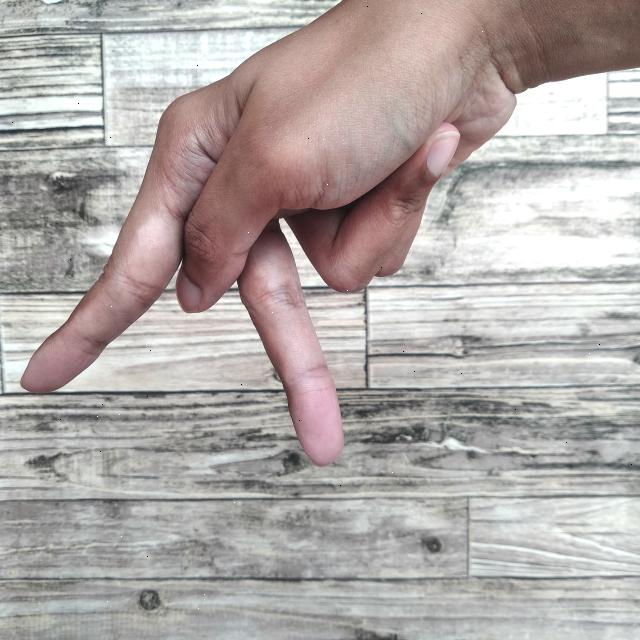P: (18, 0, 640, 471)
